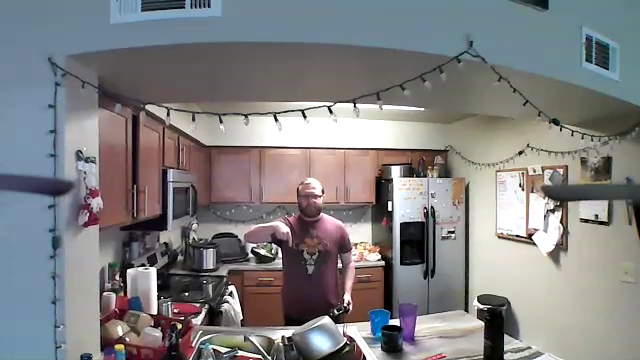down: (273, 219, 295, 251)
